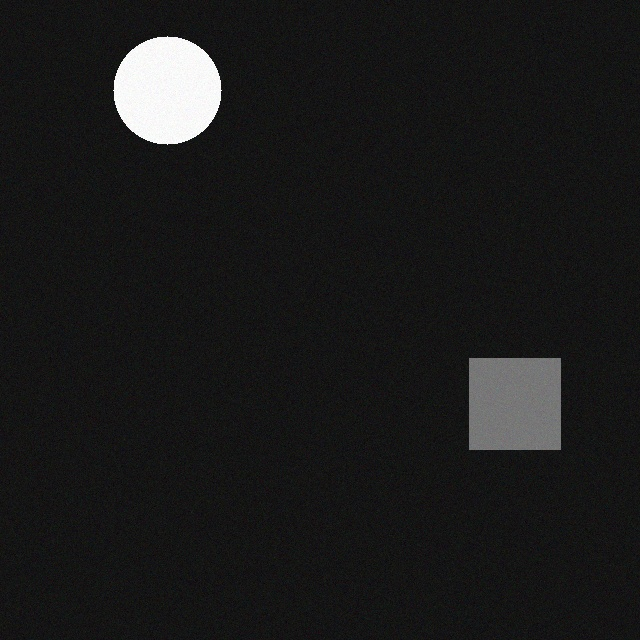circle: (115, 32, 223, 140)
square: (471, 354, 562, 445)
